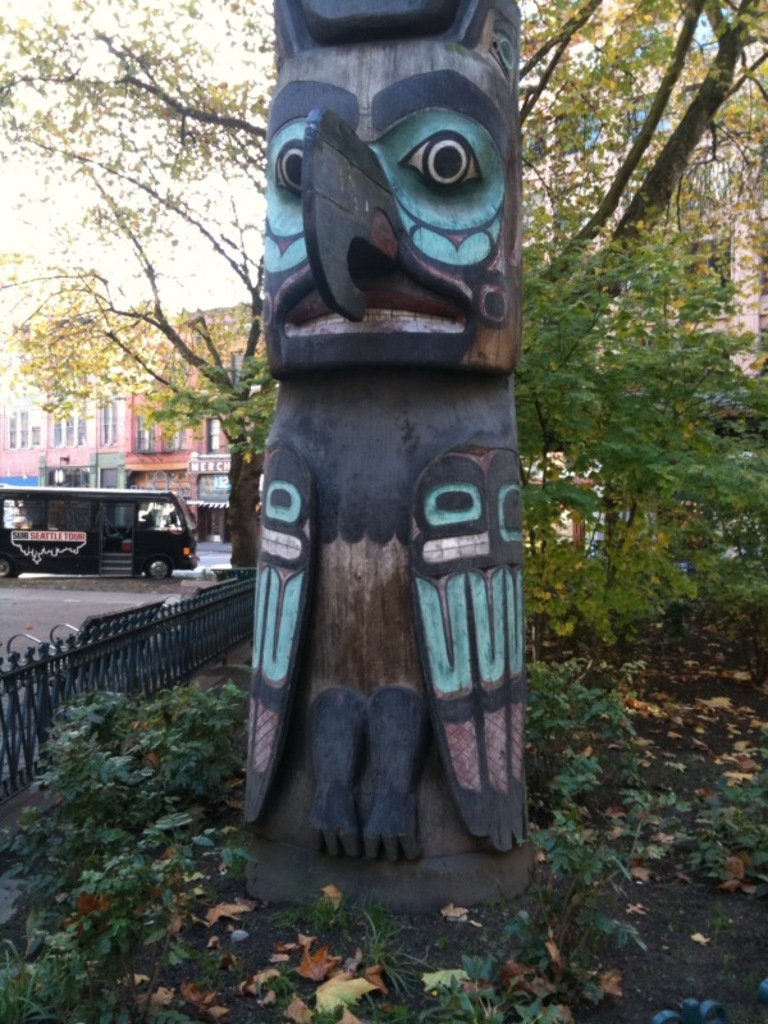Tree: (0, 0, 768, 548), (235, 0, 553, 909)
